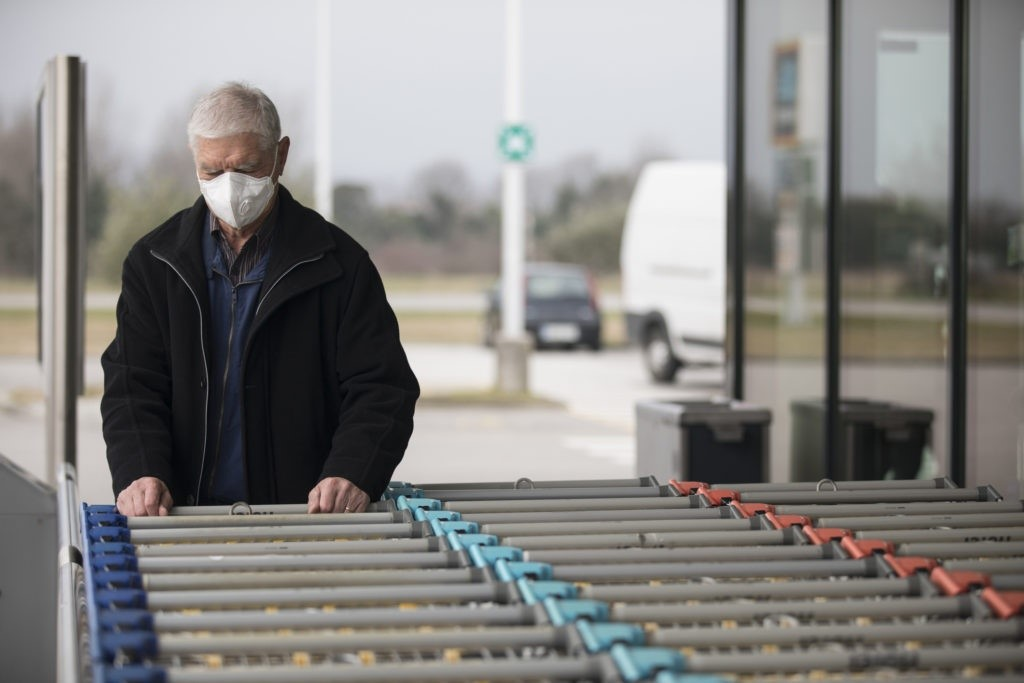face_with_mask: (186, 70, 291, 232)
